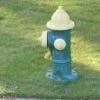a fire hydrant: (43, 2, 75, 80)
